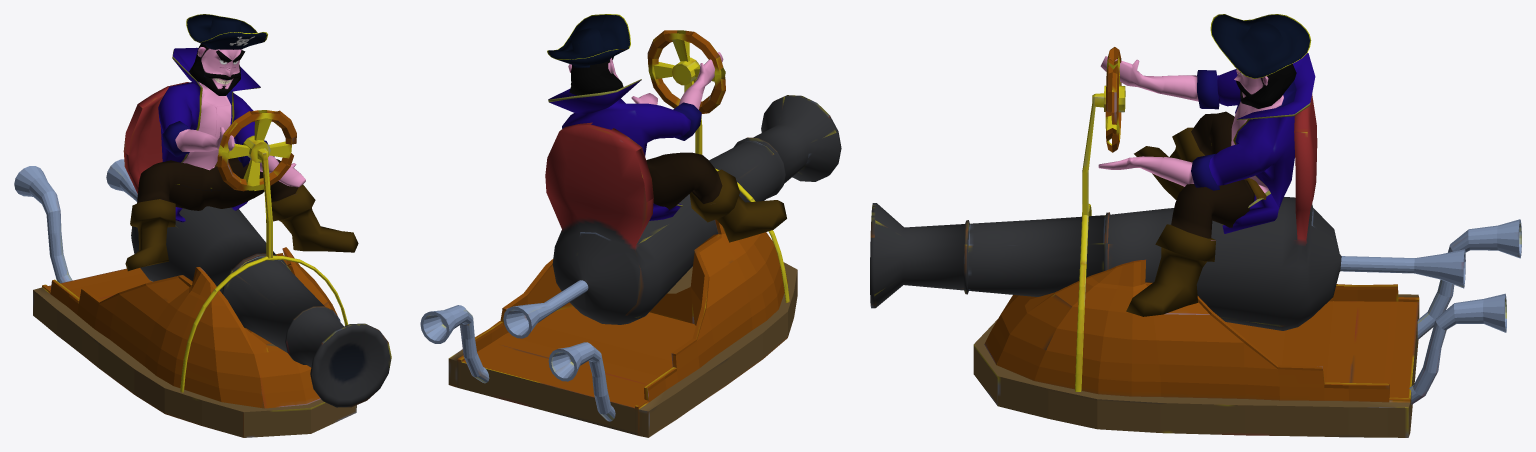
Rendered from pirataGiroDER_000360.obj.
3 views of the same model, side by side, from view 1: azimuth 30°, elevation 25°; view 2: azimuth 150°, elevation 25°; view 3: azimuth 270°, elevation 25° (orthographic). The views are drawn at different scales.
Visible parts, largest first — view 1: carro_pirata, Pirata_PirataH; view 2: carro_pirata, Pirata_PirataH; view 3: carro_pirata, Pirata_PirataH.
Boxes of the visible parts, x1,y1,x2,y2 form: carro_pirata: [14, 82, 391, 437]; Pirata_PirataH: [125, 14, 358, 271]; carro_pirata: [420, 30, 841, 437]; Pirata_PirataH: [547, 14, 786, 242]; carro_pirata: [870, 47, 1521, 437]; Pirata_PirataH: [1098, 14, 1315, 316].
Size of the model in its own units: 5.68 by 7.64 by 12.1.
